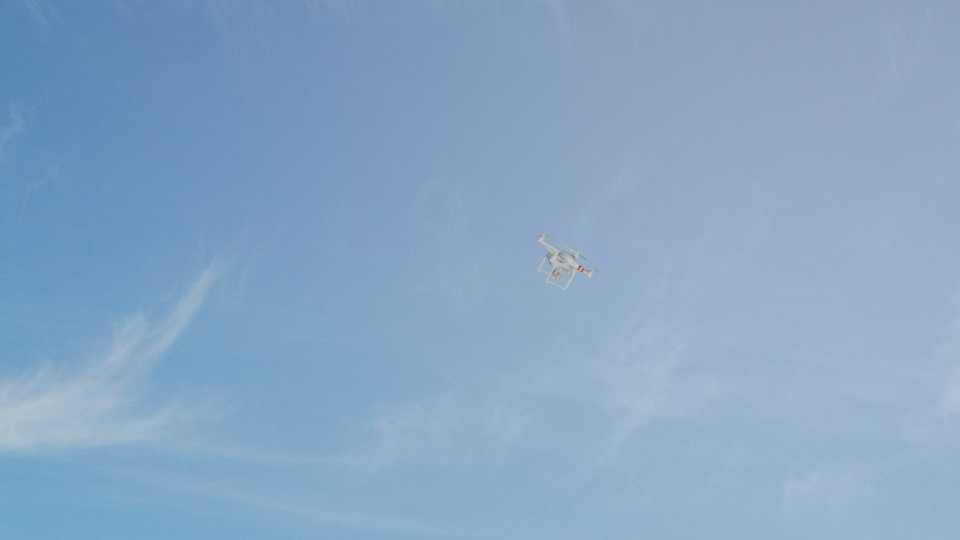drone: (531, 231, 602, 289)
